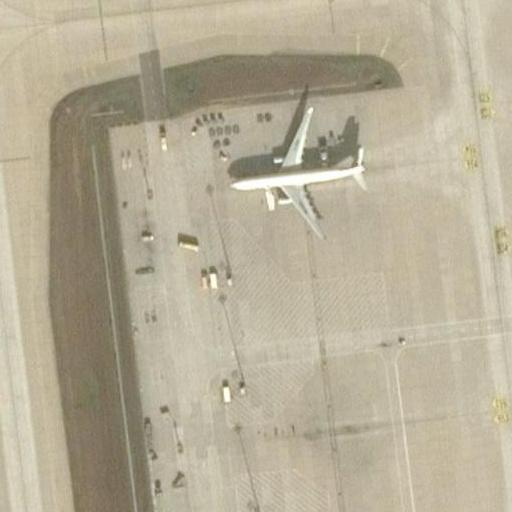Aircraft: (223, 95, 371, 243)
